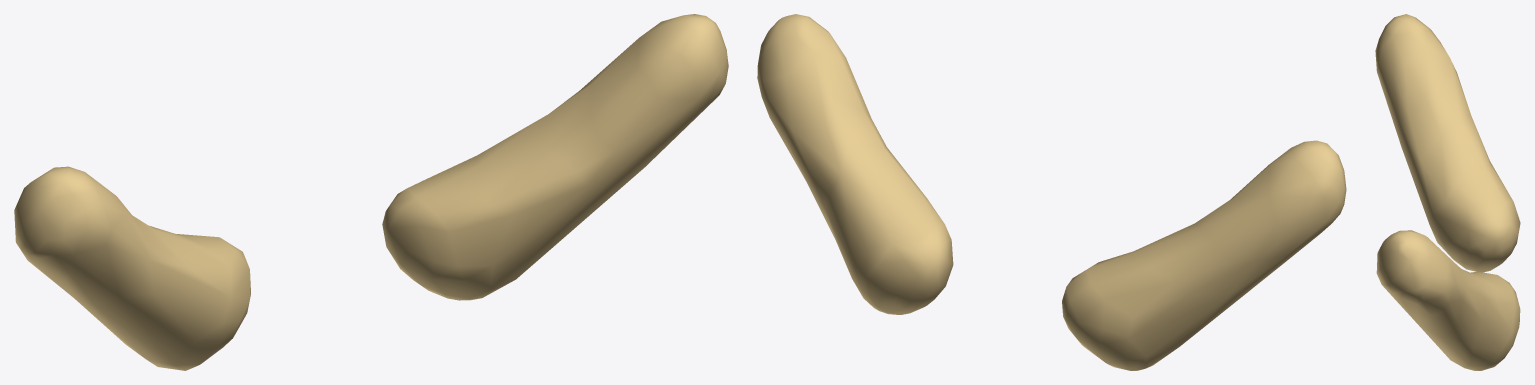
File: collicular-brachia.glb
The picture shows the model from 3 angles, left to right: view 1: azimuth 30°, elevation 25°; view 2: azimuth 150°, elevation 25°; view 3: azimuth 270°, elevation 25°; orthographic projection. The views are drawn at different scales.
Visible parts, largest first — view 1: FMA73464, FMA73463; view 2: FMA73463, FMA73464; view 3: FMA73463, FMA73464.
Boxes of the visible parts, x1,y1,x2,y2 form: FMA73464: [382, 14, 728, 300]; FMA73463: [14, 166, 250, 370]; FMA73463: [1062, 140, 1346, 370]; FMA73464: [757, 14, 953, 314]; FMA73463: [1375, 14, 1520, 272]; FMA73464: [1376, 230, 1520, 370].
Bounding box in the file's own units: 0.2958 × 0.1109 × 0.0754.
